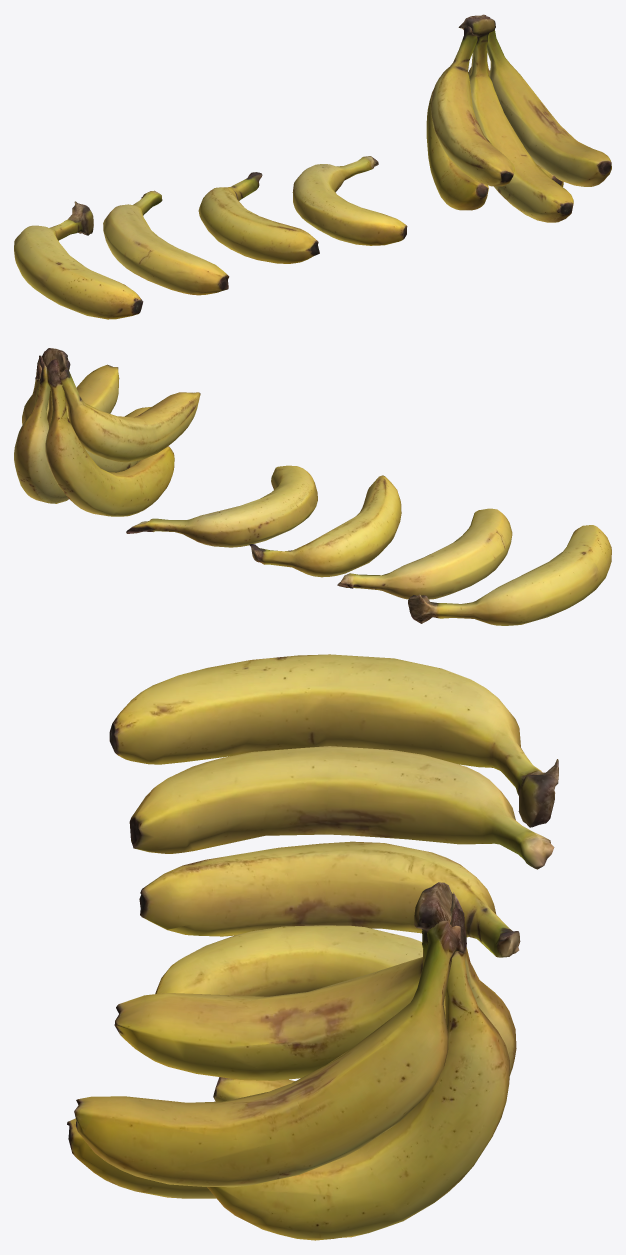
The model's file is bananas.glb.
3 views of the same model, one above another, from view 1: azimuth 30°, elevation 25°; view 2: azimuth 150°, elevation 25°; view 3: azimuth 270°, elevation 25° (orthographic). The views are drawn at different scales.
Visible parts, largest first — view 1: bananas_bunch; view 2: bananas_bunch; view 3: bananas_bunch.
Part boxes in pixels (x1,y1,x2,y2): bananas_bunch: [14, 14, 611, 319]; bananas_bunch: [14, 348, 611, 625]; bananas_bunch: [67, 654, 558, 1240].
Size of the model in its own units: 0.6 by 0.1787 by 0.2438.
Materials: 1 (1 with a texture image).
